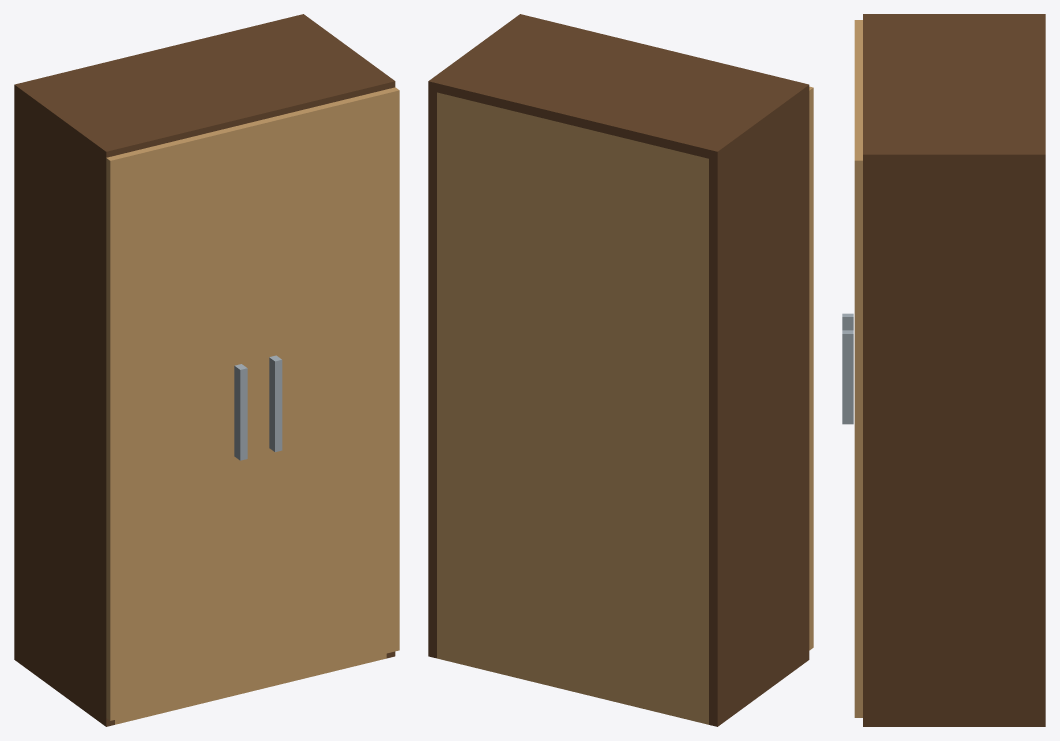
Rendered from GI_Wardrobe_01.glb.
3 views of the same model, side by side, from view 1: azimuth 30°, elevation 25°; view 2: azimuth 150°, elevation 25°; view 3: azimuth 270°, elevation 25° (orthographic).
Parts seen in each view (by area): view 1: DoorL, GI_Wardrobe_01, DoorR; view 2: GI_Wardrobe_01, DoorL; view 3: GI_Wardrobe_01, DoorR, DoorL.
Boxes of the visible parts, x1=… form: DoorL: x1=106, y1=122, x2=254, y2=720; GI_Wardrobe_01: x1=14, y1=14, x2=395, y2=726; DoorR: x1=251, y1=87, x2=399, y2=685; GI_Wardrobe_01: x1=428, y1=14, x2=809, y2=726; DoorL: x1=809, y1=86, x2=813, y2=650; GI_Wardrobe_01: x1=863, y1=14, x2=1045, y2=726; DoorR: x1=842, y1=90, x2=862, y2=717; DoorL: x1=842, y1=20, x2=862, y2=330.
Bounding box in the file's own units: 1 × 1.9 × 0.6125.
Materials: 1 (1 with a texture image).
